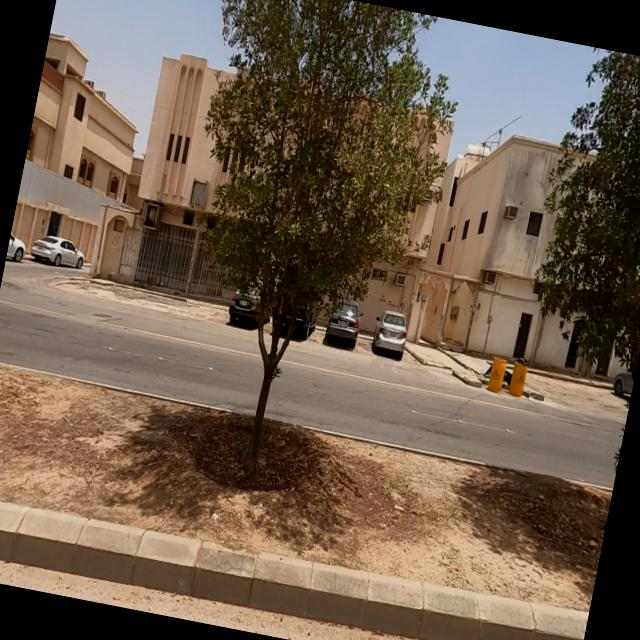Graffiti: (379, 291, 404, 313), (404, 302, 411, 316)
